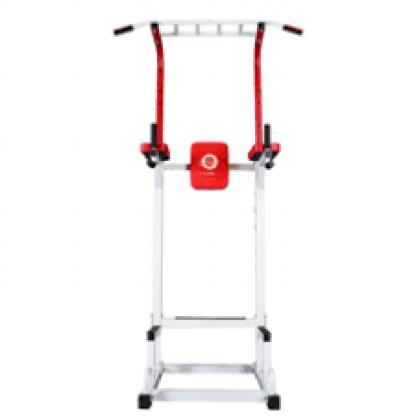chinning dipping: (113, 18, 305, 410)
